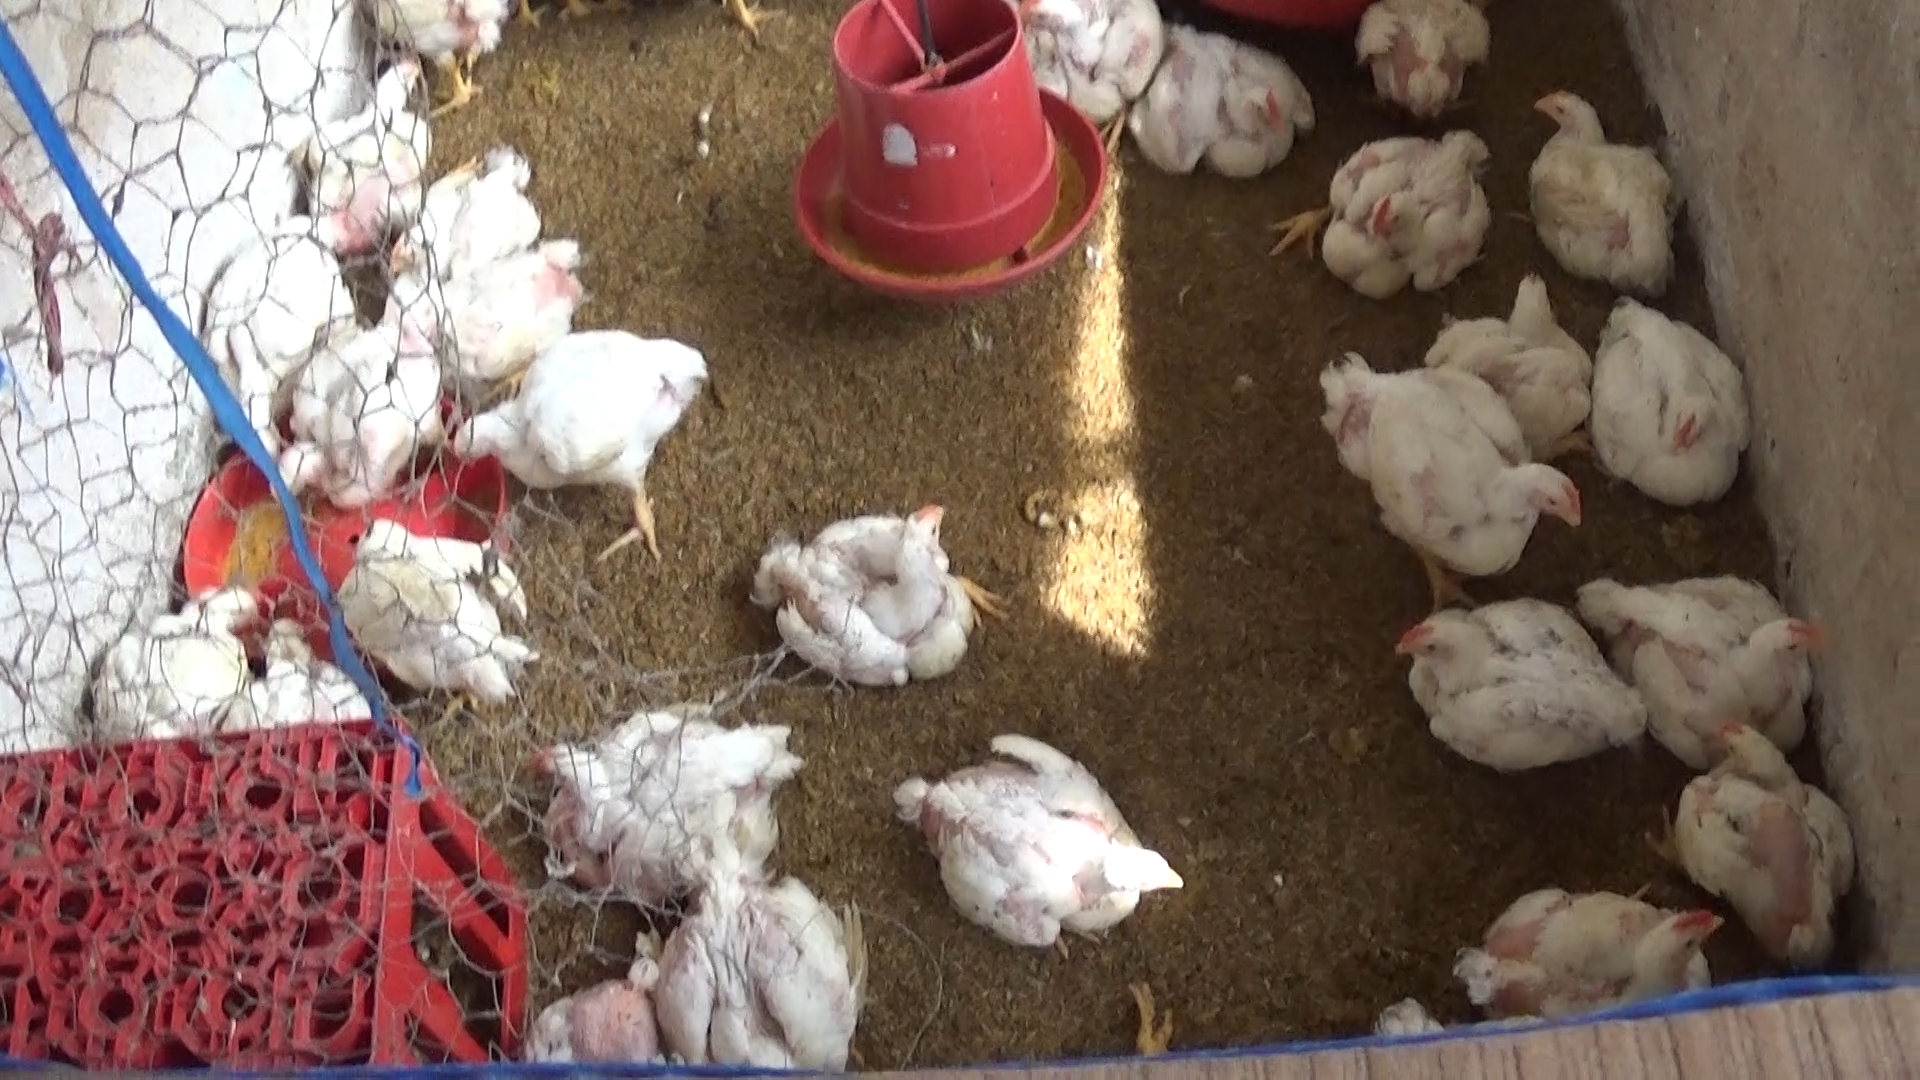Pollos: (886, 723, 1196, 953), (1305, 343, 1588, 593), (1635, 703, 1871, 984), (510, 694, 789, 911), (456, 323, 688, 564), (745, 495, 1022, 696), (1452, 841, 1756, 1021), (1578, 560, 1840, 760), (1389, 572, 1642, 775), (662, 855, 880, 1077), (1575, 289, 1766, 531), (1262, 123, 1515, 298), (1520, 83, 1720, 289), (322, 512, 524, 687), (75, 578, 262, 752), (290, 46, 442, 251), (1120, 15, 1316, 164), (1408, 266, 1590, 396), (400, 117, 542, 273), (426, 233, 593, 359), (1360, 0, 1499, 138), (220, 612, 353, 731), (1015, 0, 1164, 102)
